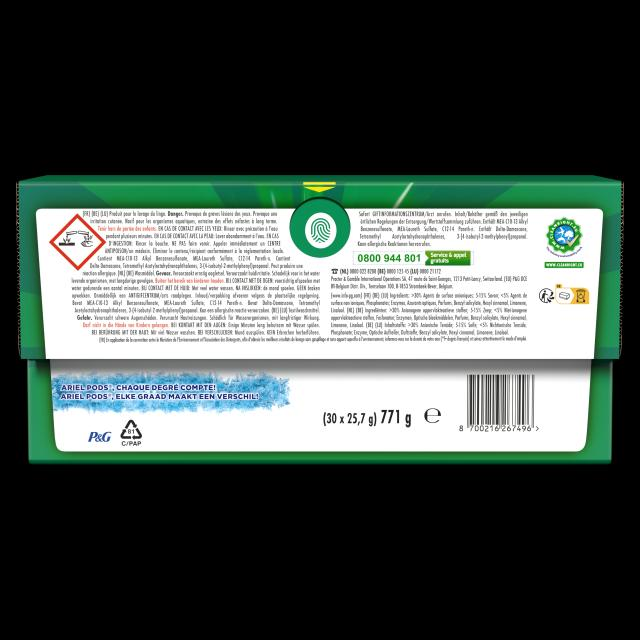GHS_Symbol_CORROSION: (49, 213, 105, 270)
